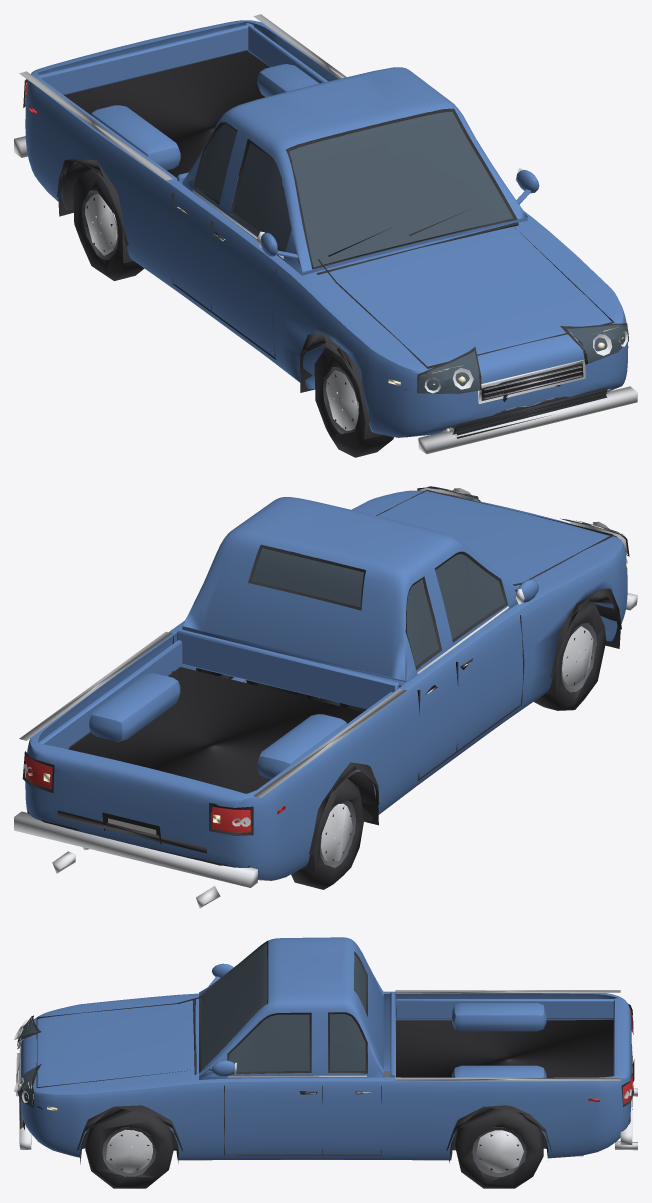
File: CarV3_Pickup_L1.fbx
The picture shows the model from 3 angles, top to bottom: view 1: azimuth 30°, elevation 25°; view 2: azimuth 150°, elevation 25°; view 3: azimuth 270°, elevation 25°; orthographic projection. The views are drawn at different scales.
Visible parts, largest first — view 1: CarV3_Pickup.001; view 2: CarV3_Pickup.001; view 3: CarV3_Pickup.001.
Boxes of the visible parts, x1,y1,x2,y2 form: CarV3_Pickup.001: (14,14,637,457); CarV3_Pickup.001: (14,486,637,908); CarV3_Pickup.001: (14,937,637,1188).
Size of the model in its own units: 2.07 by 1.74 by 5.4.
